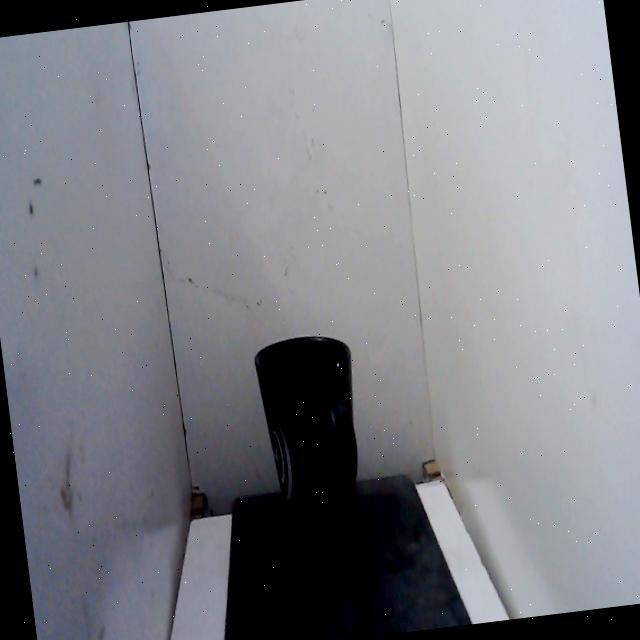vidro: (243, 314, 386, 584)
